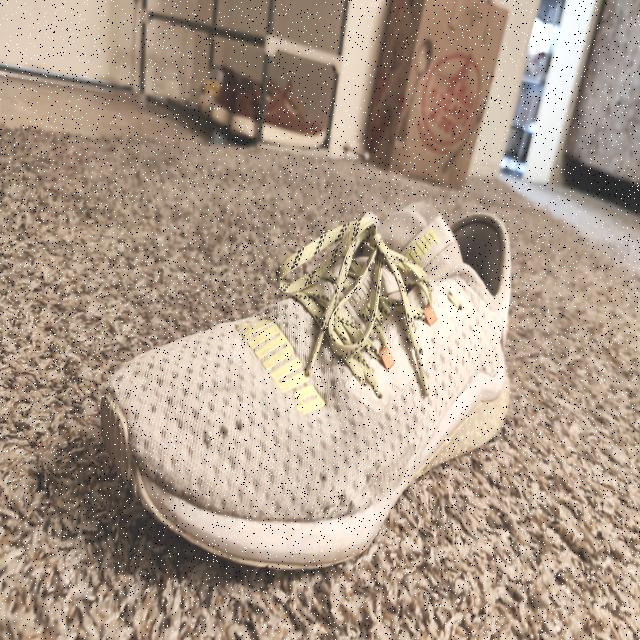white shoes: (100, 215, 508, 568)
